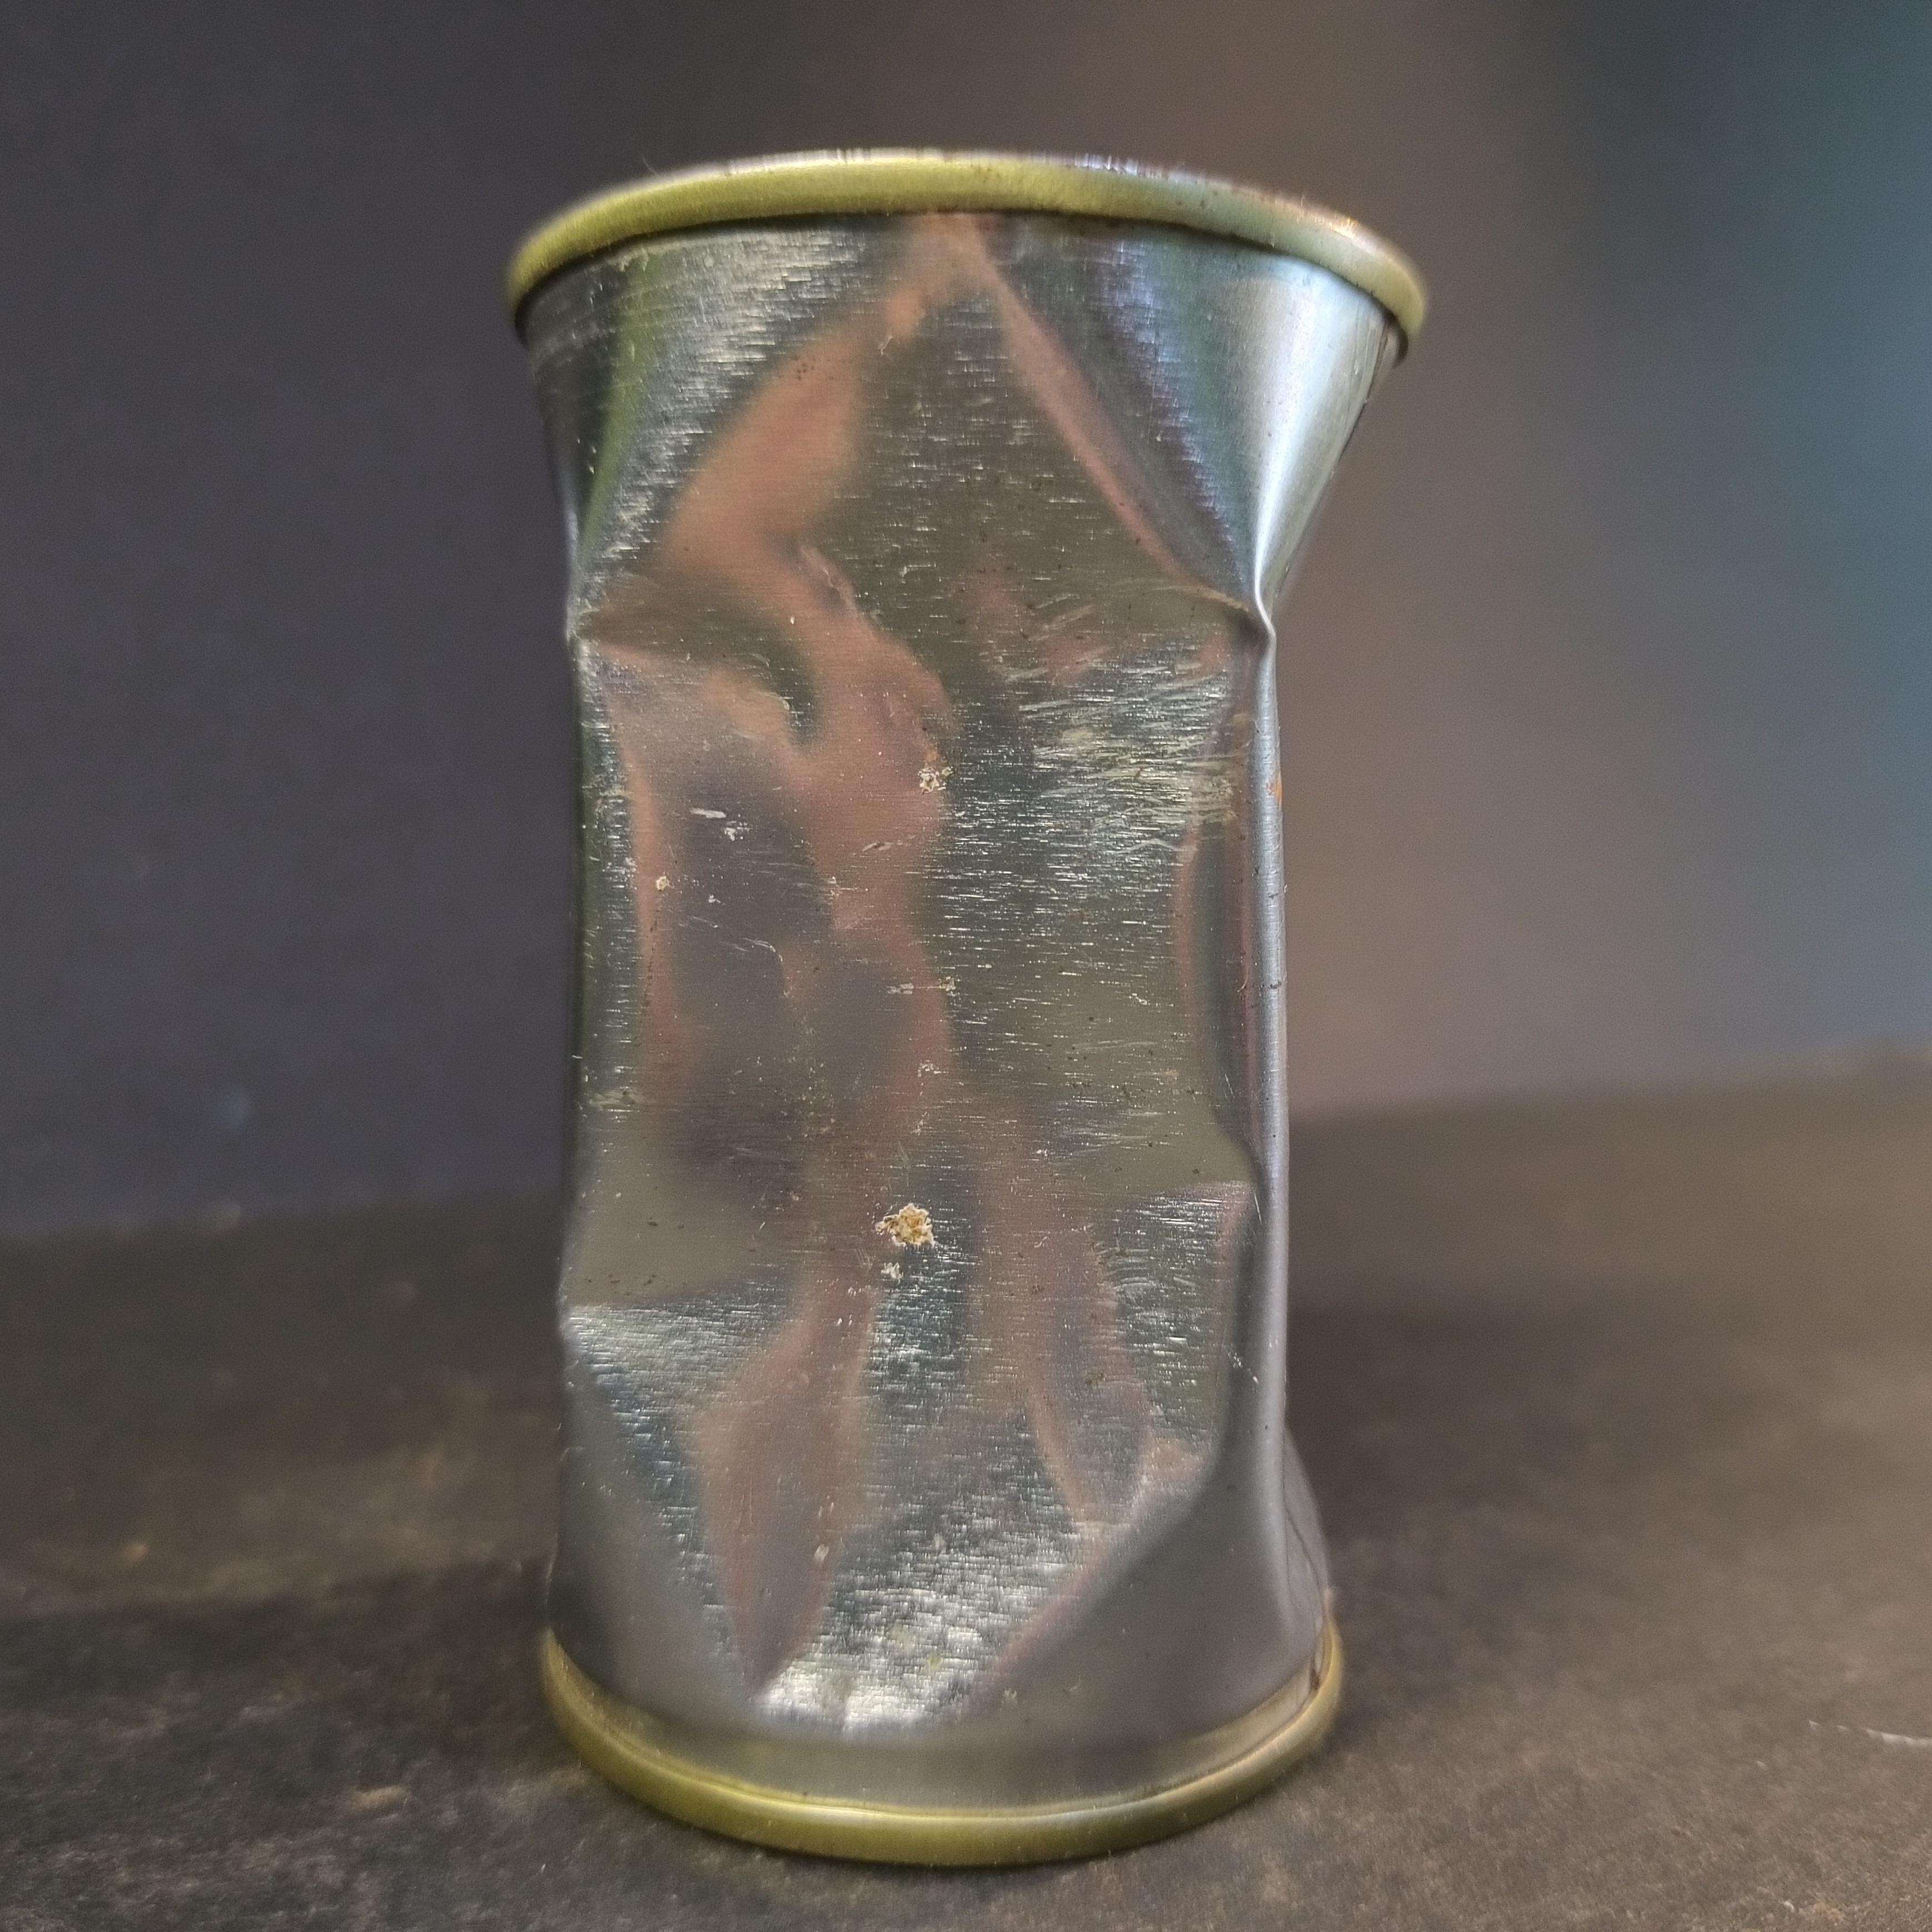Dented: (467, 101, 1449, 1895)
